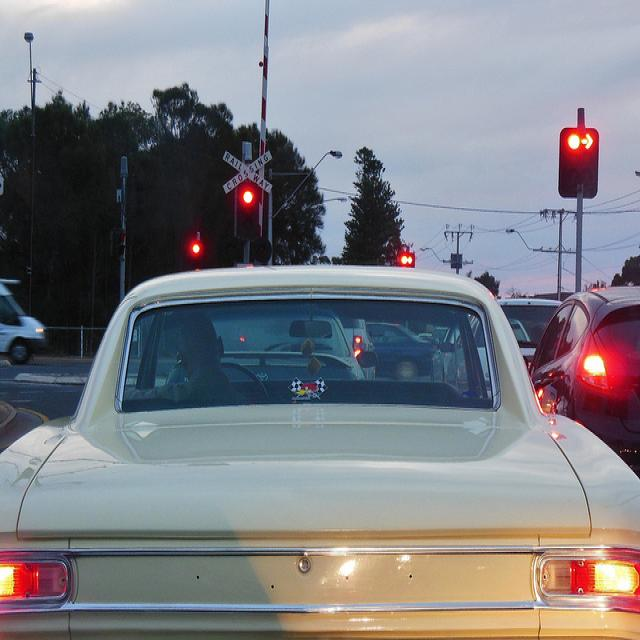Vehicle: (0, 267, 640, 640), (531, 281, 640, 474), (0, 277, 55, 365), (496, 299, 566, 361), (0, 282, 50, 366)
